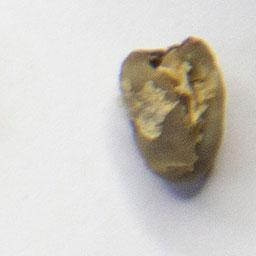peaberry: (115, 30, 230, 188)
